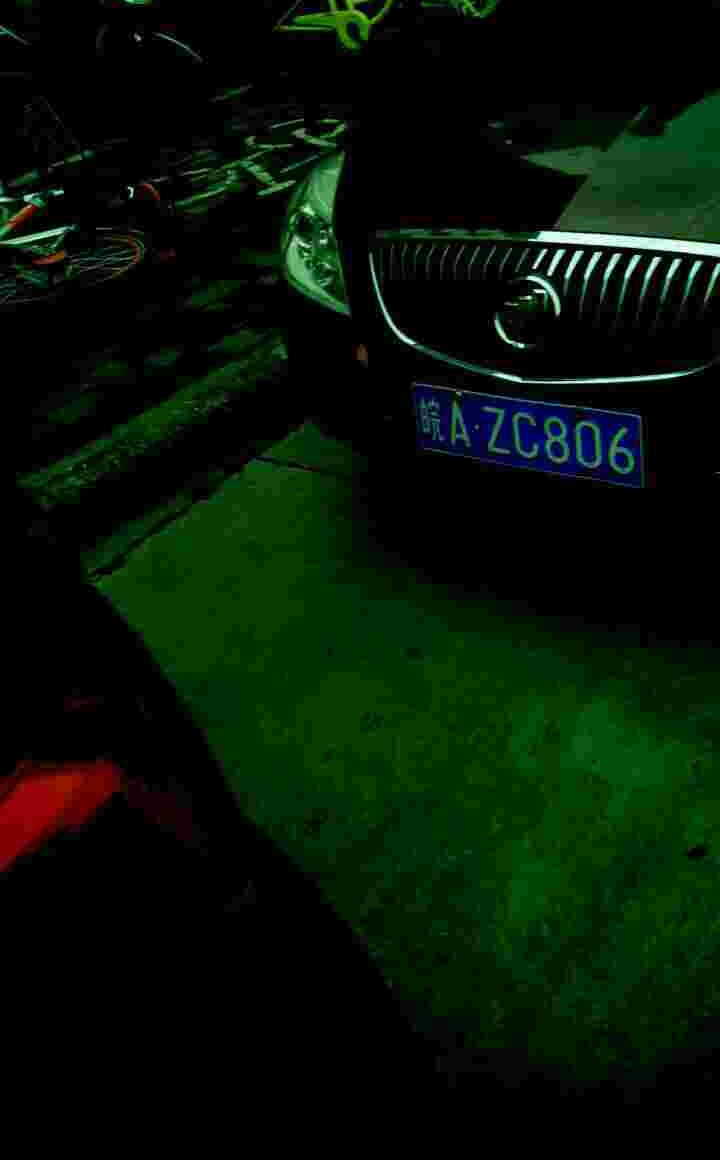plate: (404, 377, 649, 492)
